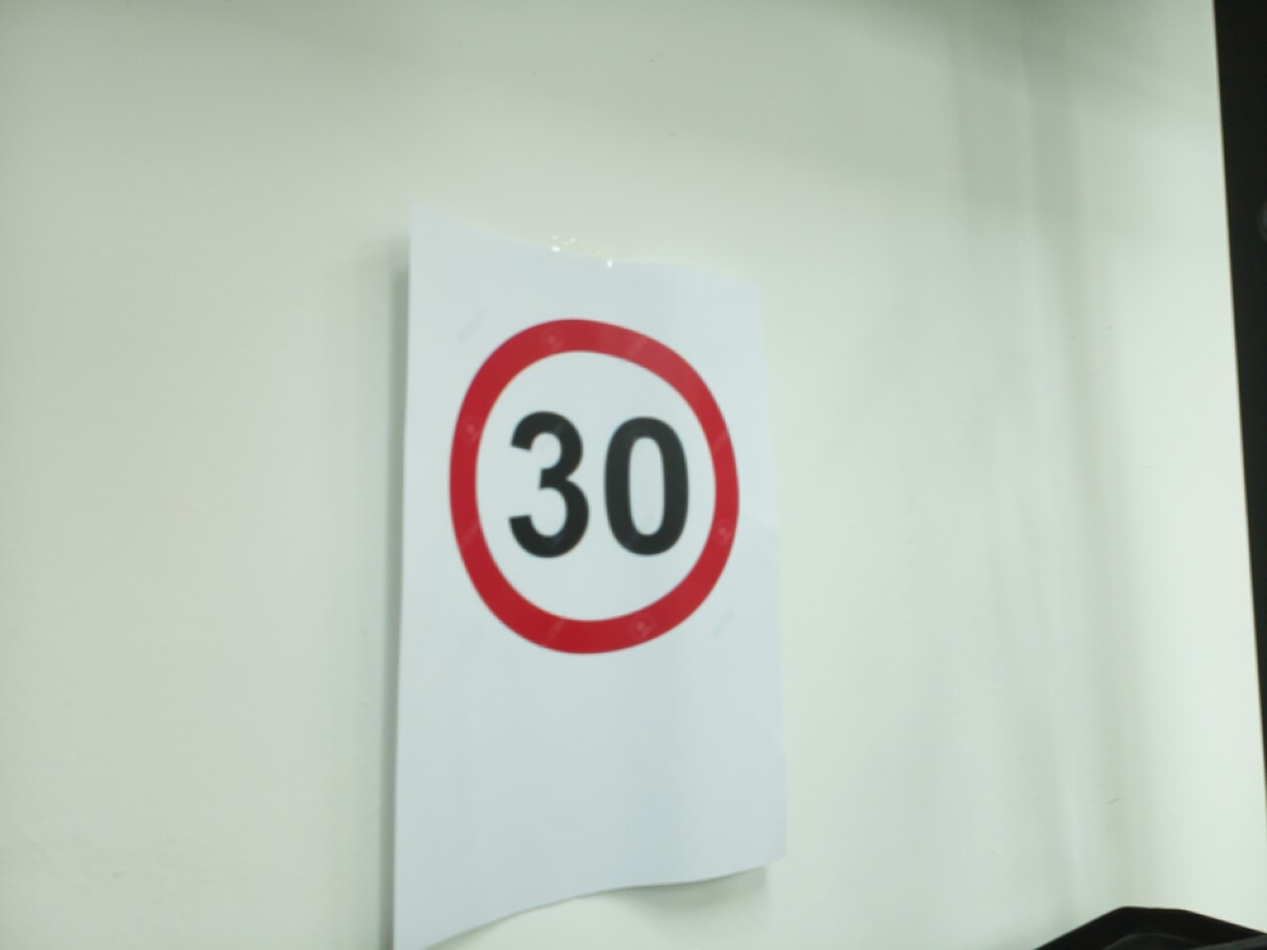speed_30: (439, 309, 749, 664)
